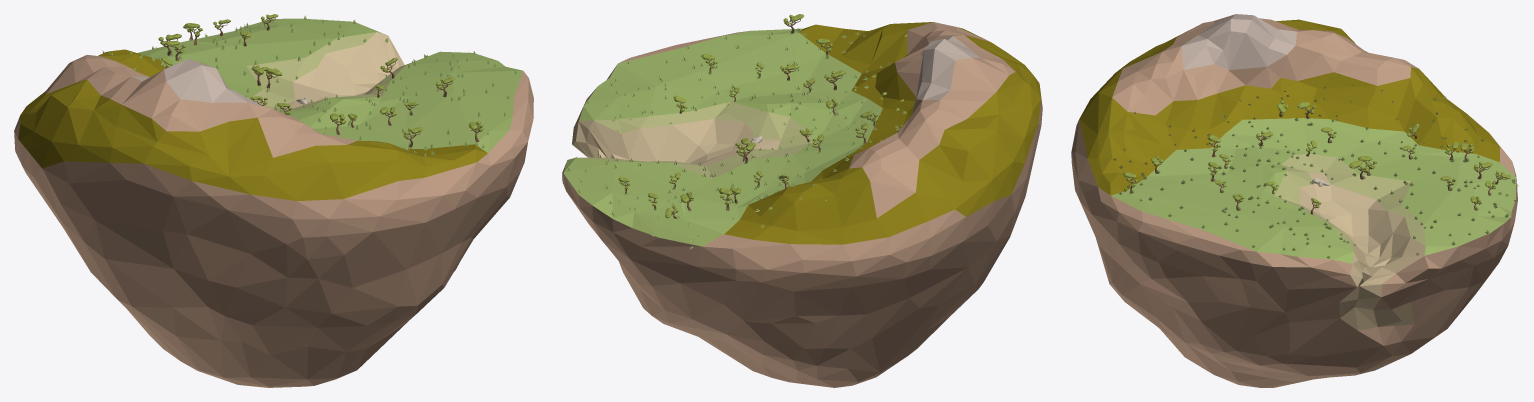
The model's file is World1Island.fbx.
3 views of the same model, side by side, from view 1: azimuth 30°, elevation 25°; view 2: azimuth 150°, elevation 25°; view 3: azimuth 270°, elevation 25° (orthographic). The views are drawn at different scales.
Visible parts, largest first — view 1: Icosphere; view 2: Icosphere; view 3: Icosphere.
Boxes of the visible parts, x1=… form: Icosphere: x1=14, y1=18, x2=533, y2=387; Icosphere: x1=562, y1=22, x2=1042, y2=387; Icosphere: x1=1071, y1=14, x2=1517, y2=387.
Bounding box in the file's own units: 19235 × 14196 × 18412.
